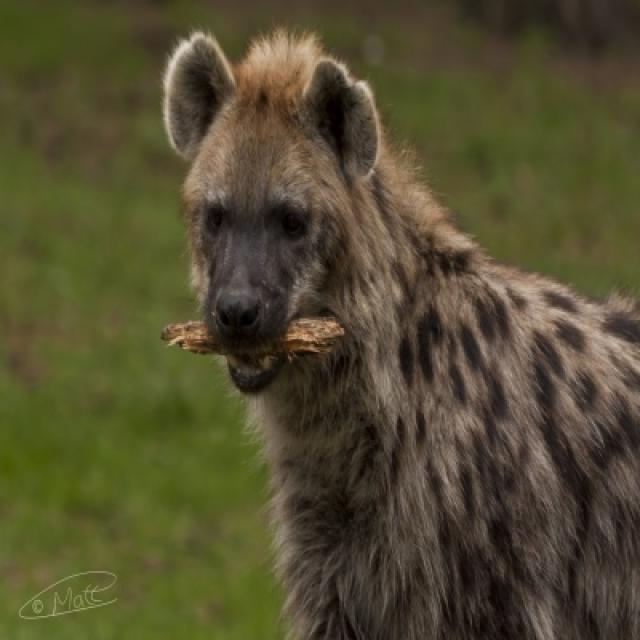hyena: (160, 27, 638, 638)
